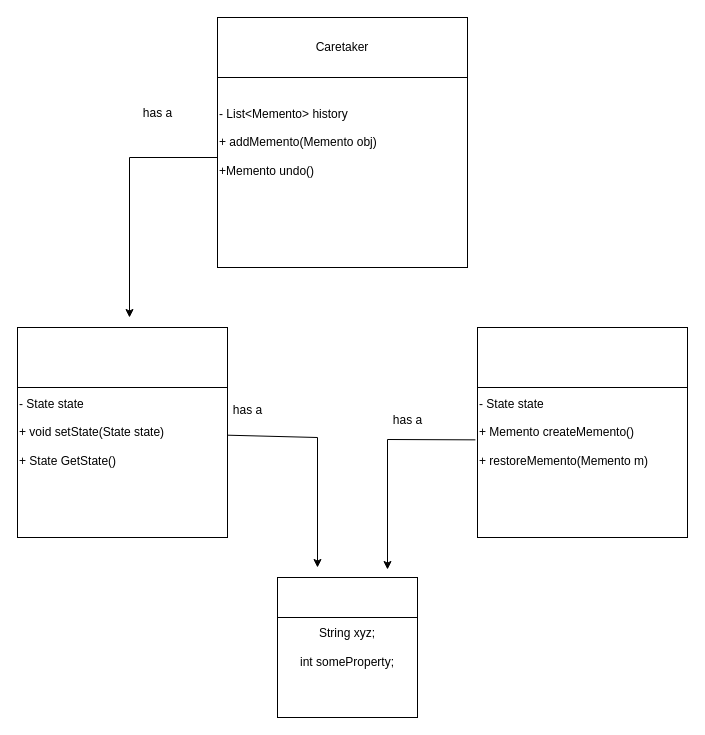
Image size: 705x735. Some labels were removed from this diagram. Here are the shapes that lost their labels. From the top down, the centre of each, then its label:
the point at 122,357: Memento
the point at 582,357: Originator
the point at 347,597: State
